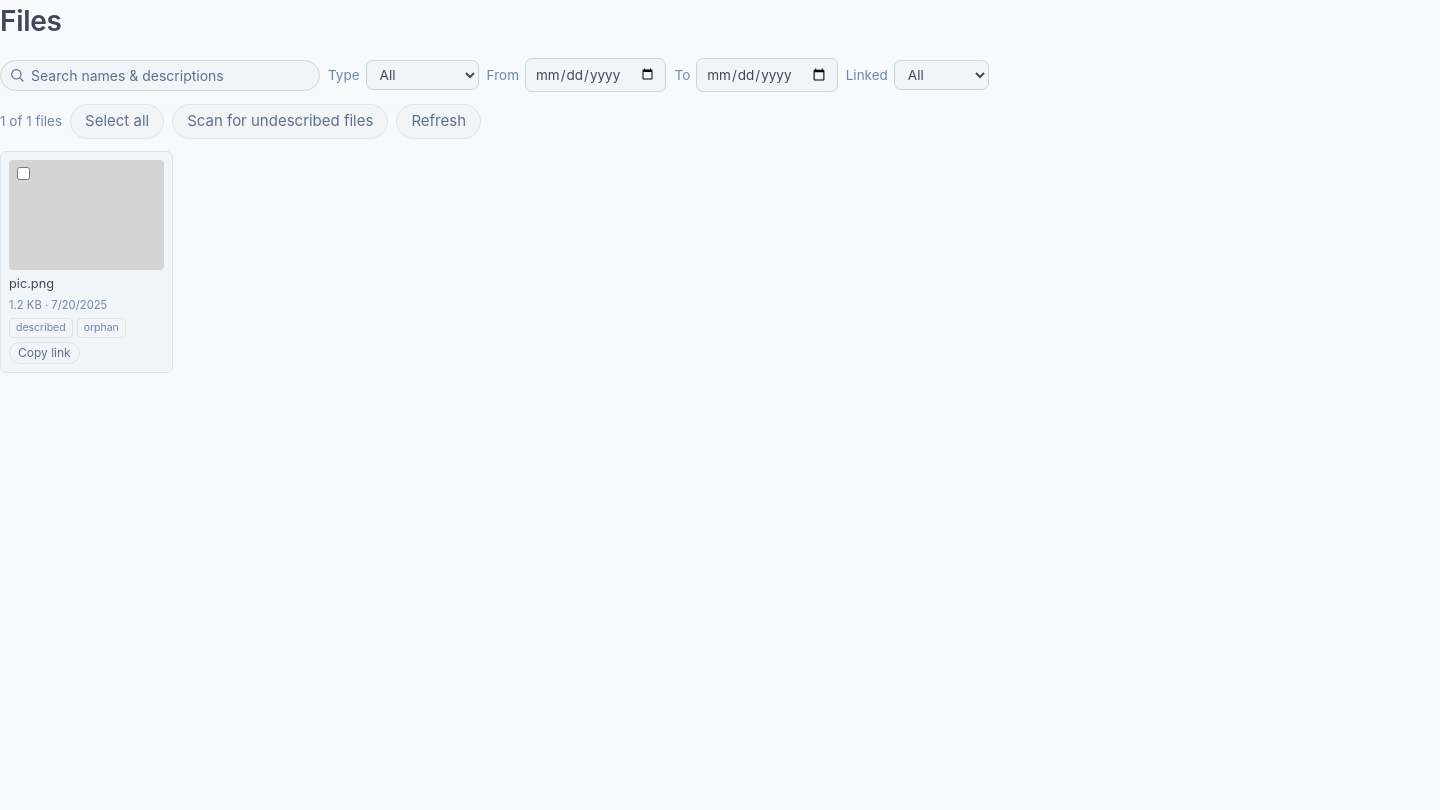
Files › deletes selected files after a calm confirm and reports
Click the checkbox named "Select pic.png". click: click(24, 173)
box: [17,167,30,180]
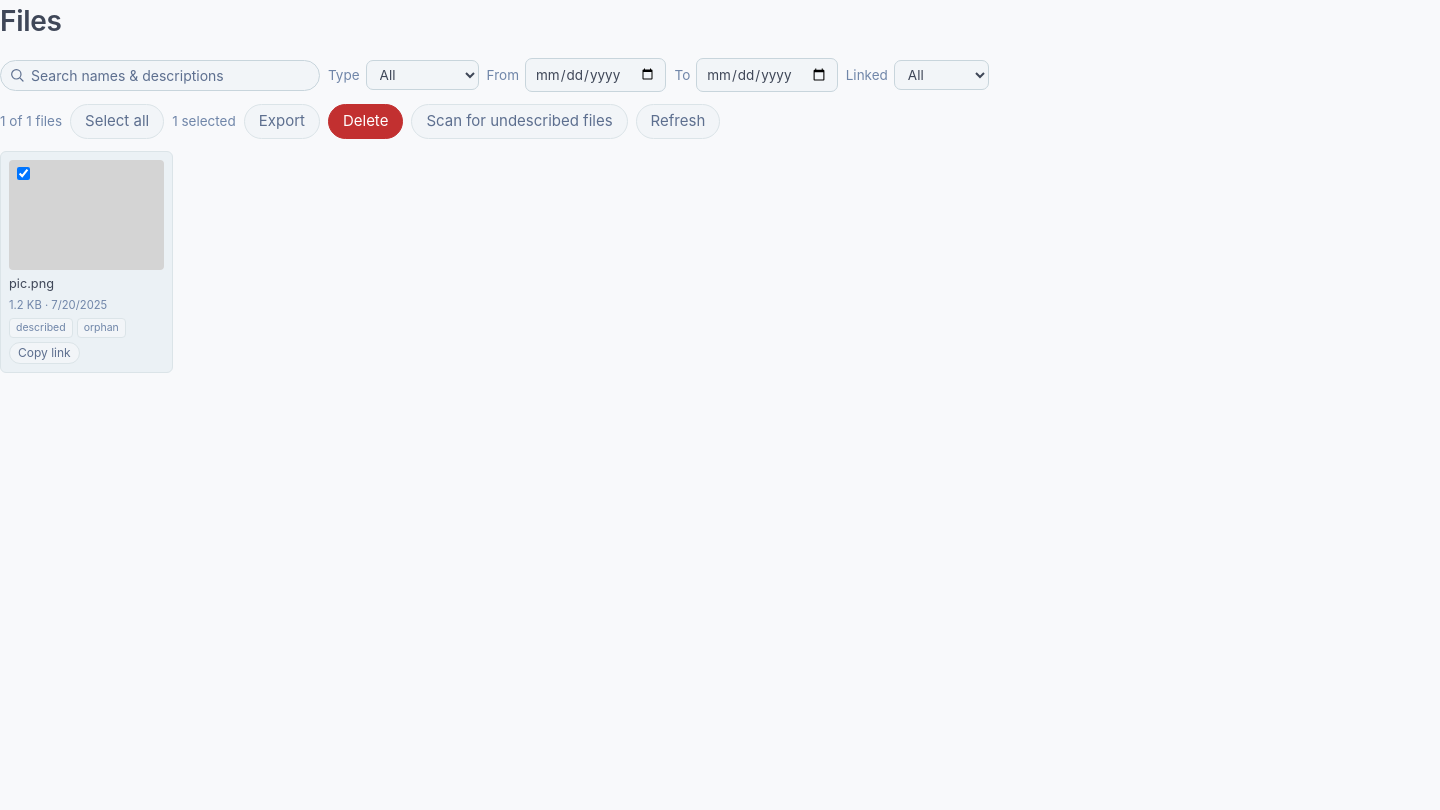
Click the button "Delete". click: click(366, 122)
box: [328,104,403,139]
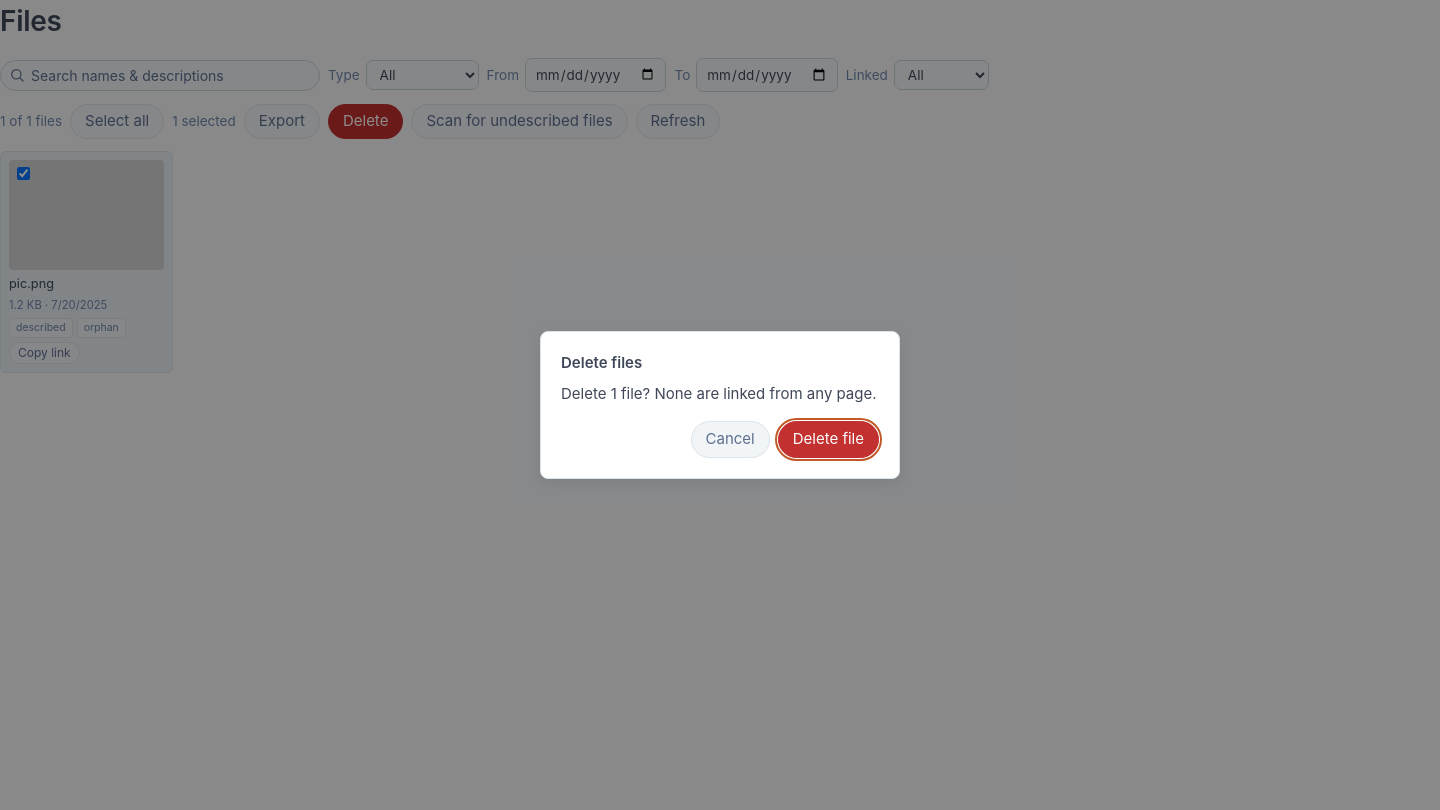
expect the text "Delete 1 file? None are linked from any page." is shown: met, box [561,383,879,405]
Click the button "Delete file". click: click(828, 440)
box: [778,421,879,458]
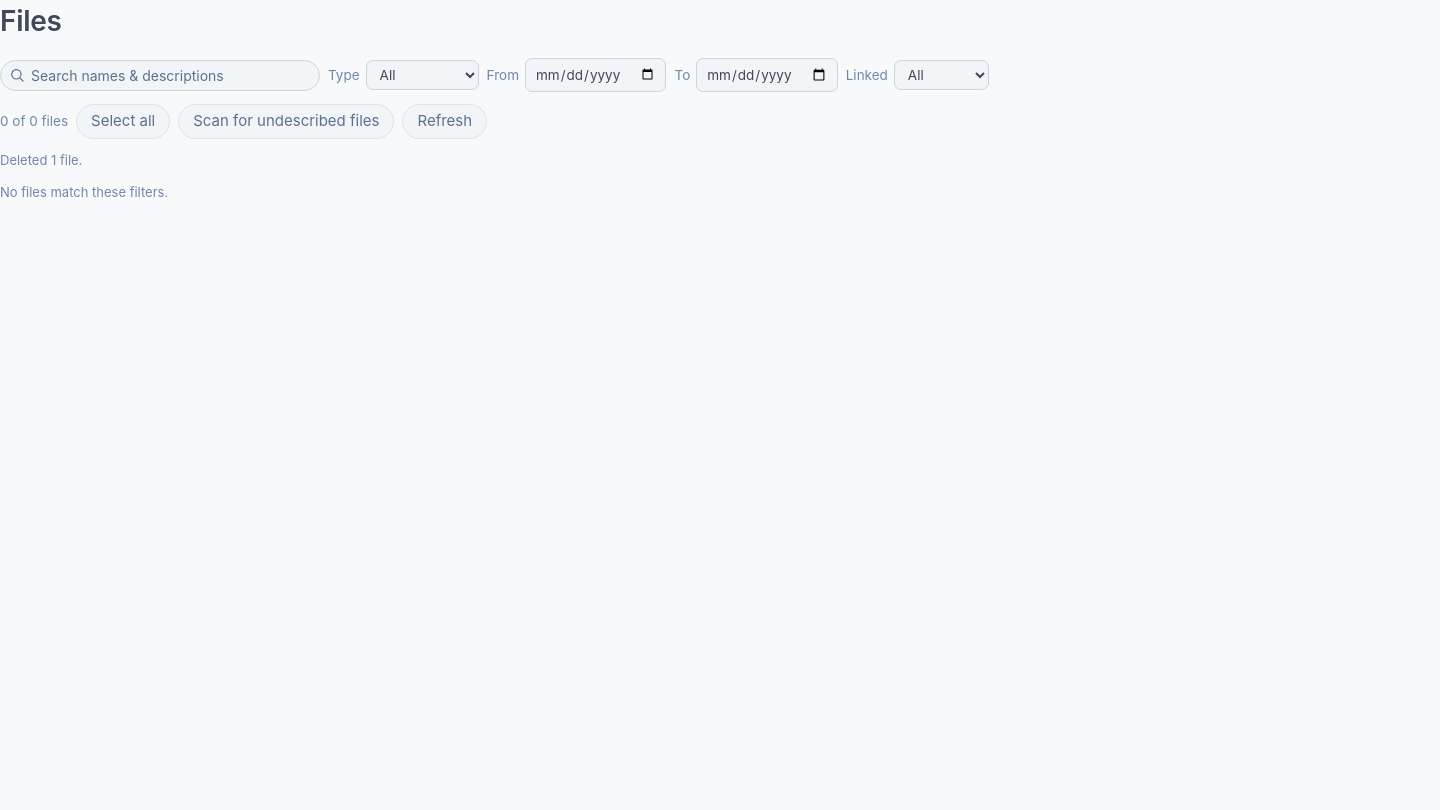
expect the text "Deleted 1 file." is shown: met, box [0,152,82,168]
